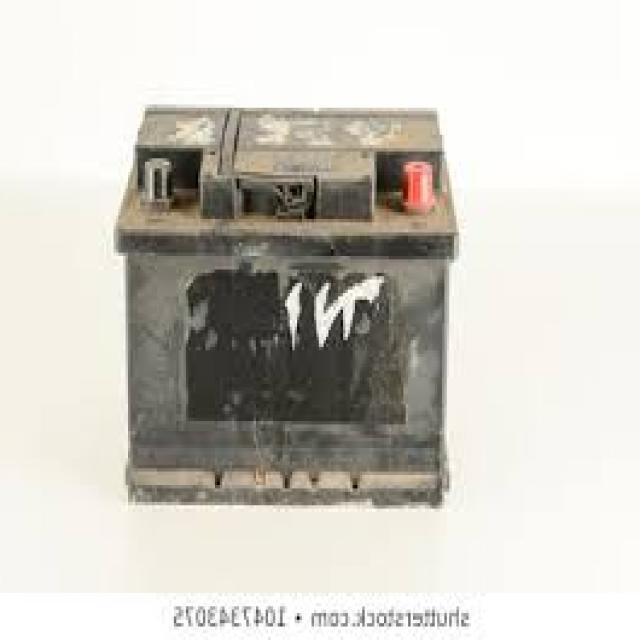battery: (118, 104, 458, 512)
